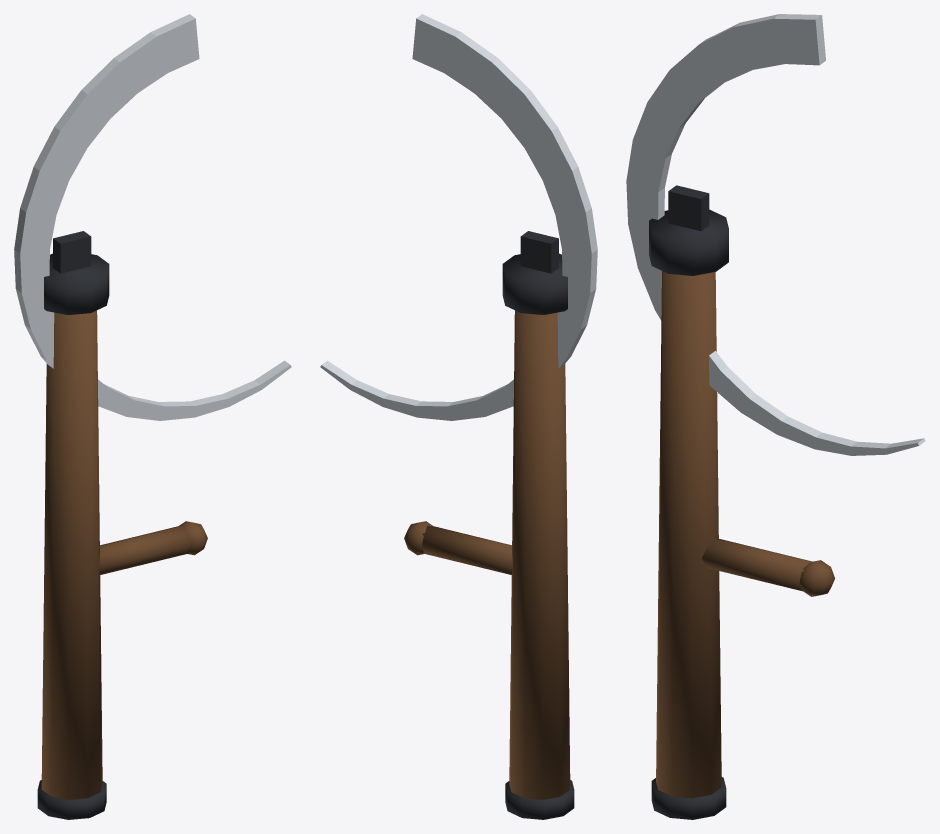
The model's file is scythe.glb.
The picture shows the model from 3 angles, left to right: view 1: azimuth 30°, elevation 25°; view 2: azimuth 150°, elevation 25°; view 3: azimuth 330°, elevation 25°; orthographic projection. The views are drawn at different scales.
Parts seen in each view (by area): view 1: scythe; view 2: scythe; view 3: scythe.
Part boxes in pixels (<box>): scythe: <box>14,14,291,819</box>; scythe: <box>320,14,597,819</box>; scythe: <box>626,14,925,819</box>.
Bounding box in the file's own units: 0.621 × 1.66 × 0.15.
